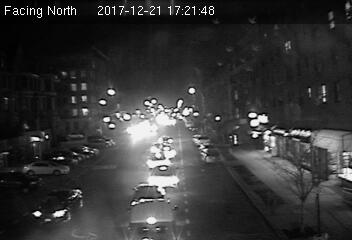car: (32, 187, 84, 225), (147, 164, 180, 189), (201, 148, 223, 163)
